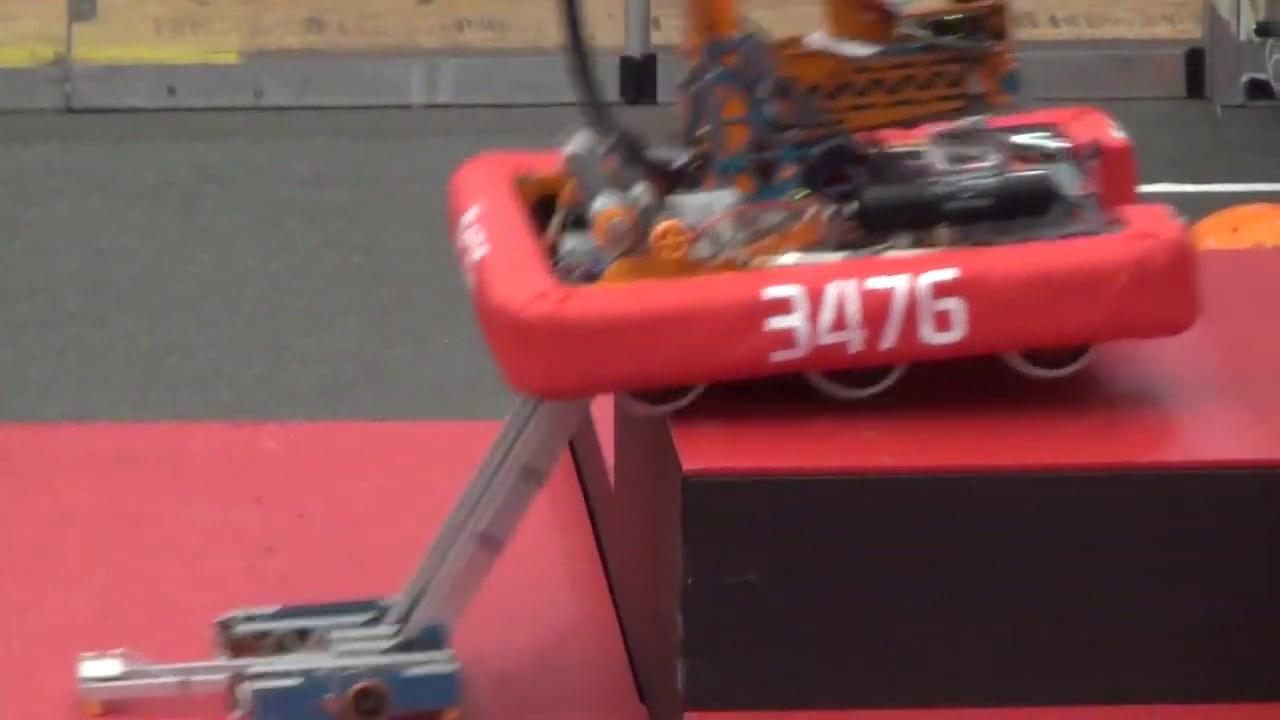robot: (445, 0, 1207, 410)
